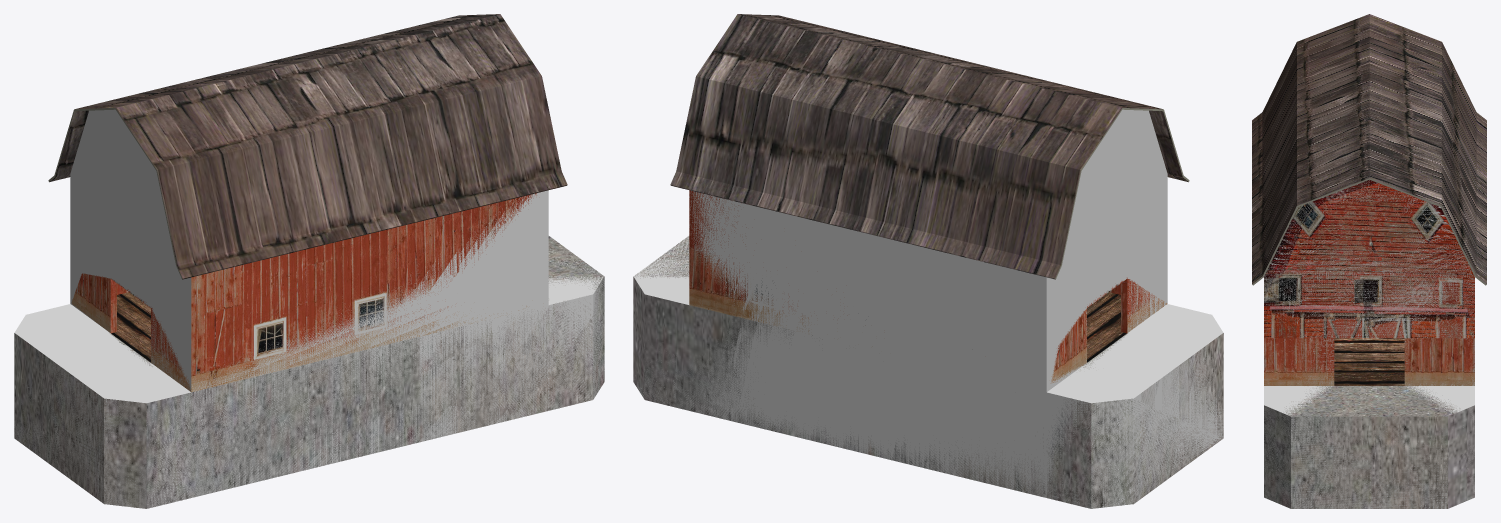
The model's file is barn.fbx.
3 views of the same model, side by side, from view 1: azimuth 30°, elevation 25°; view 2: azimuth 150°, elevation 25°; view 3: azimuth 270°, elevation 25° (orthographic). The views are drawn at different scales.
Parts seen in each view (by area): view 1: Plane.003, Plane.030; view 2: Plane.003, Plane.030; view 3: Plane.003, Plane.030.
Boxes of the visible parts, <box> form: Plane.003: <box>14,14,604,508</box>; Plane.030: <box>14,109,604,508</box>; Plane.003: <box>633,14,1223,508</box>; Plane.030: <box>633,109,1223,508</box>; Plane.003: <box>1252,14,1486,508</box>; Plane.030: <box>1264,180,1474,508</box>.
Size of the model in its own units: 2795 by 1866 by 1300.
